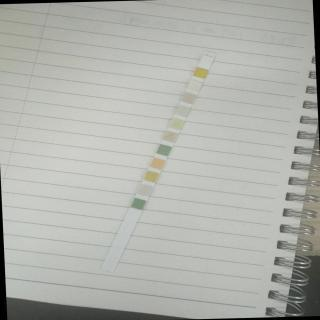mark: (194, 68, 207, 78), (189, 83, 201, 93), (152, 160, 163, 170), (159, 146, 170, 156), (145, 173, 157, 182), (201, 57, 213, 66), (132, 199, 144, 208), (166, 133, 178, 141), (184, 96, 194, 105), (139, 186, 150, 194), (172, 122, 183, 130), (177, 109, 188, 117)
